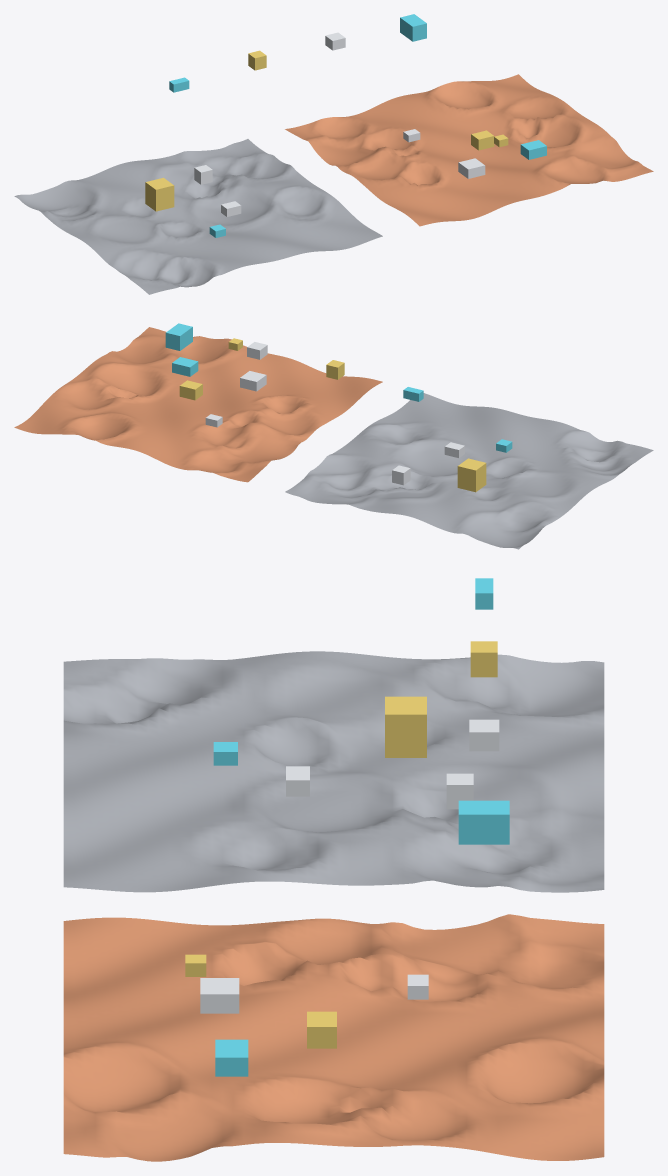
File: escena_nasa_base.glb
3 views of the same model, one above another, from view 1: azimuth 30°, elevation 25°; view 2: azimuth 150°, elevation 25°; view 3: azimuth 270°, elevation 25° (orthographic). The views are drawn at different scales.
Parts seen in each view (by area): view 1: Terreno_Marte, Terreno_La_Luna, Modulo_Lunar_Apolo_Eagle, Telescopio_Espacial_Kepler, Modulos_Viking_1_y_2, Modulos_Phoenix_e_InSight; view 2: Terreno_La_Luna, Terreno_Marte, Modulo_Lunar_Apolo_Eagle, Telescopio_Espacial_Kepler, Modulos_Viking_1_y_2, Modulos_Phoenix_e_InSight, Rovers_Spirit_y_Opportunity; view 3: Terreno_Marte, Terreno_La_Luna, Modulo_Lunar_Apolo_Eagle, Telescopio_Espacial_Kepler, Modulos_Viking_1_y_2, Modulos_Phoenix_e_InSight, Rovers_Spirit_y_Opportunity, Sonda_NEAR_Shoemaker, Sondas_Pioneer_10_y_11, Sondas_Roboticas_Reconocimiento.
Part boxes in pixels (x1=…): Terreno_Marte: x1=285, y1=74, x2=653, y2=226; Terreno_La_Luna: x1=14, y1=139, x2=382, y2=294; Modulo_Lunar_Apolo_Eagle: x1=145, y1=177, x2=174, y2=211; Telescopio_Espacial_Kepler: x1=400, y1=14, x2=426, y2=41; Modulos_Viking_1_y_2: x1=458, y1=158, x2=485, y2=178; Modulos_Phoenix_e_InSight: x1=520, y1=140, x2=546, y2=159; Terreno_La_Luna: x1=285, y1=393, x2=653, y2=549; Terreno_Marte: x1=14, y1=327, x2=382, y2=482; Modulo_Lunar_Apolo_Eagle: x1=457, y1=458, x2=486, y2=492; Telescopio_Espacial_Kepler: x1=165, y1=323, x2=192, y2=350; Modulos_Viking_1_y_2: x1=240, y1=371, x2=266, y2=391; Modulos_Phoenix_e_InSight: x1=172, y1=357, x2=198, y2=376; Rovers_Spirit_y_Opportunity: x1=179, y1=380, x2=202, y2=400; Terreno_Marte: x1=63, y1=914, x2=604, y2=1161; Terreno_La_Luna: x1=63, y1=651, x2=604, y2=892; Modulo_Lunar_Apolo_Eagle: x1=385, y1=696, x2=426, y2=757; Telescopio_Espacial_Kepler: x1=458, y1=800, x2=509, y2=844; Modulos_Viking_1_y_2: x1=200, y1=978, x2=239, y2=1013; Modulos_Phoenix_e_InSight: x1=215, y1=1039, x2=248, y2=1076; Rovers_Spirit_y_Opportunity: x1=307, y1=1011, x2=336, y2=1048; Sonda_NEAR_Shoemaker: x1=470, y1=641, x2=497, y2=677; Sondas_Pioneer_10_y_11: x1=469, y1=719, x2=499, y2=751; Sondas_Roboticas_Reconocimiento: x1=446, y1=773, x2=473, y2=809.
Size of the model in its own units: 19.4 by 4.45 by 9.
